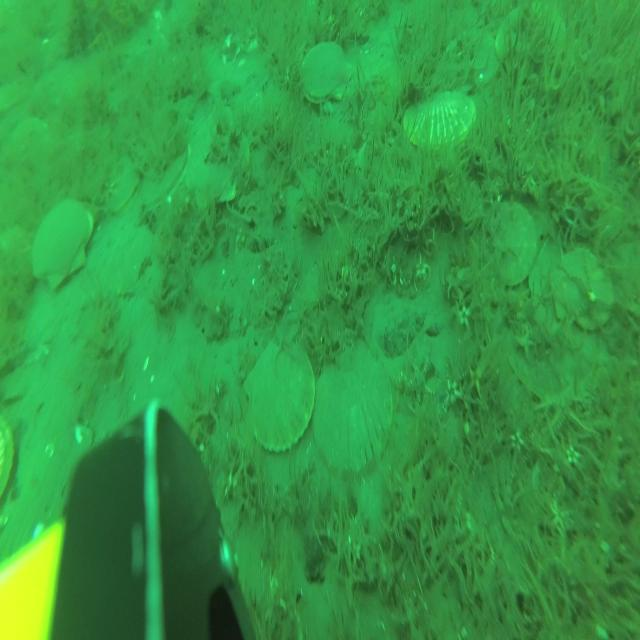scallop: (316, 349, 392, 469), (240, 335, 316, 451), (187, 118, 251, 209), (31, 203, 95, 288), (494, 3, 565, 67), (402, 92, 476, 151), (490, 194, 535, 289), (300, 38, 355, 106)
